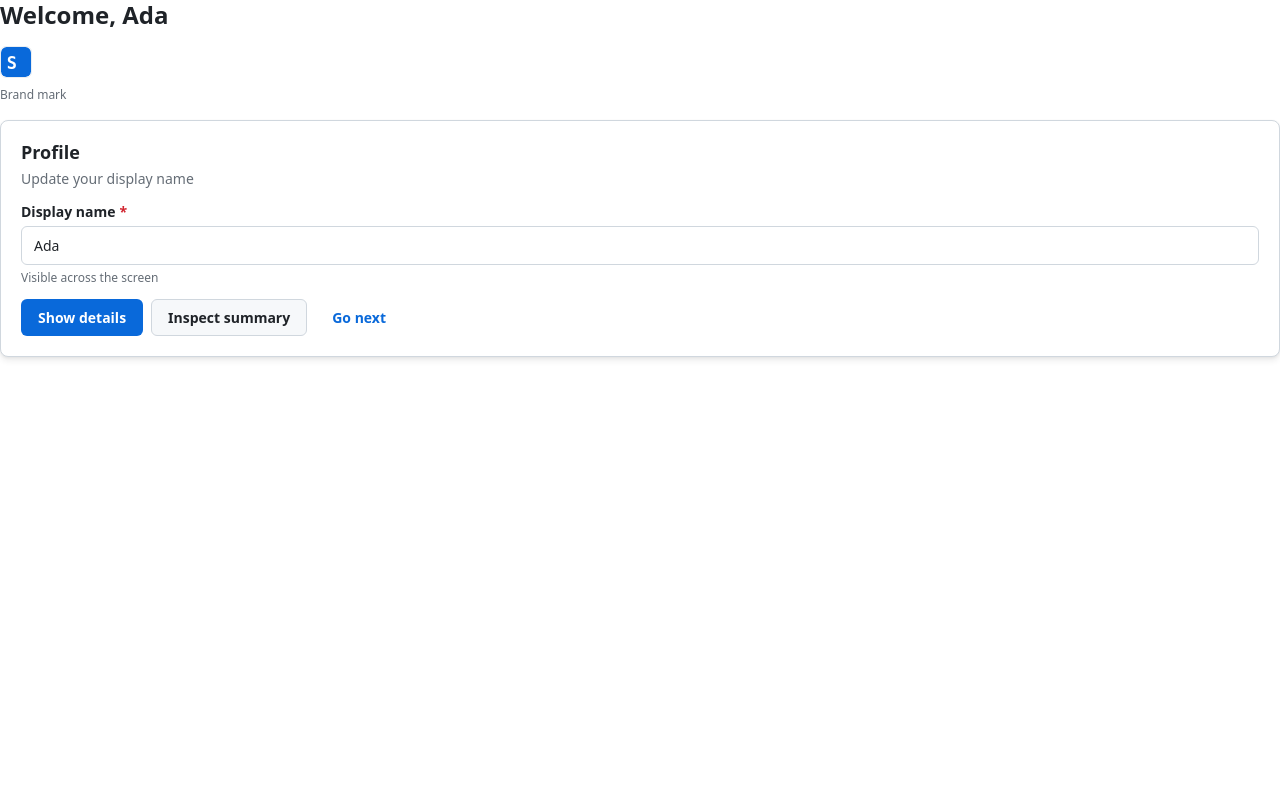
Scenario: SDUI core components and accessibility › renders all 8 node types, handles bindings/actions, and passes jest-axe
This screenshot has width=1280, height=800.
Expected: the picture named "SDUI Lab icon" is shown, [0,46,32,78]
Expected: the text "Brand mark" is shown, [0,86,66,103]
Input updates state live
Replace the text in the field labelled "Display name*" with "Grace" at (640, 245), box [21,226,1259,264]
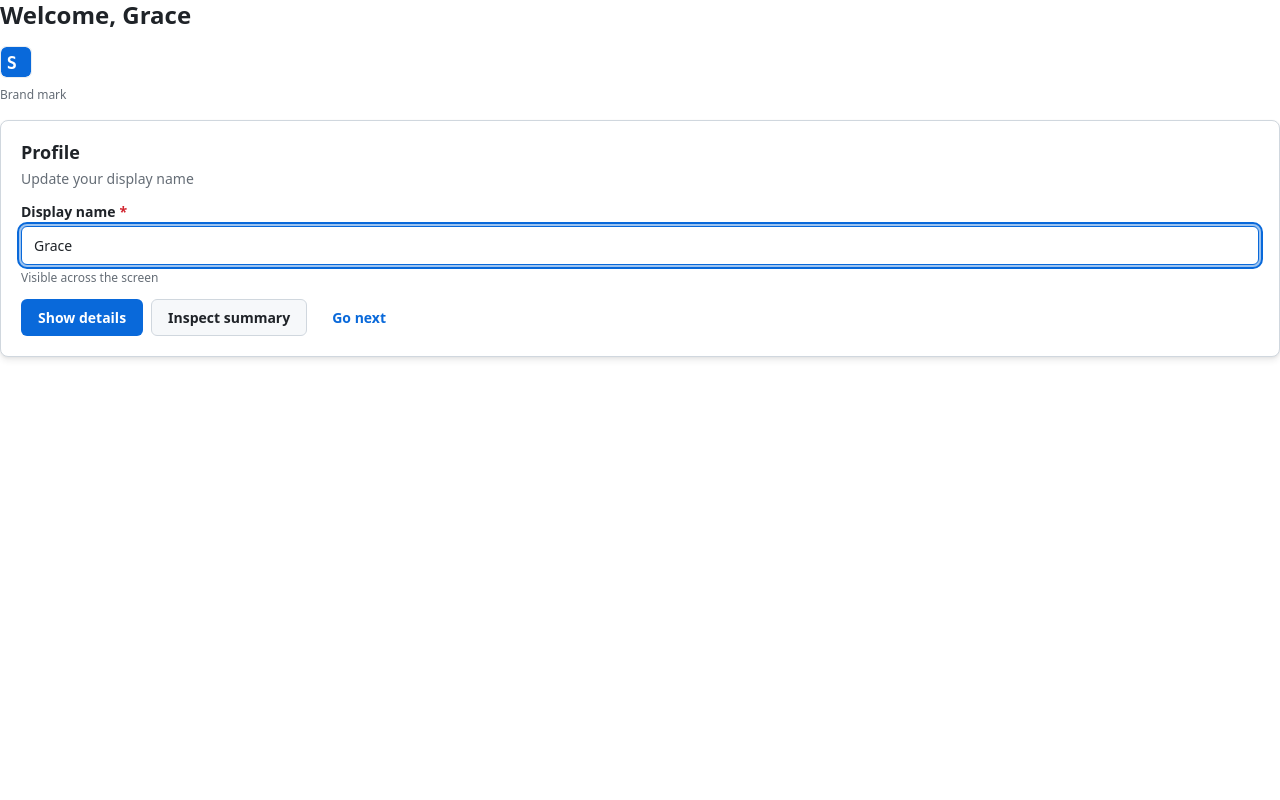
Toggle conditional via setState button
Click the button "Show details" at (82, 317), box [21,298,143,336]
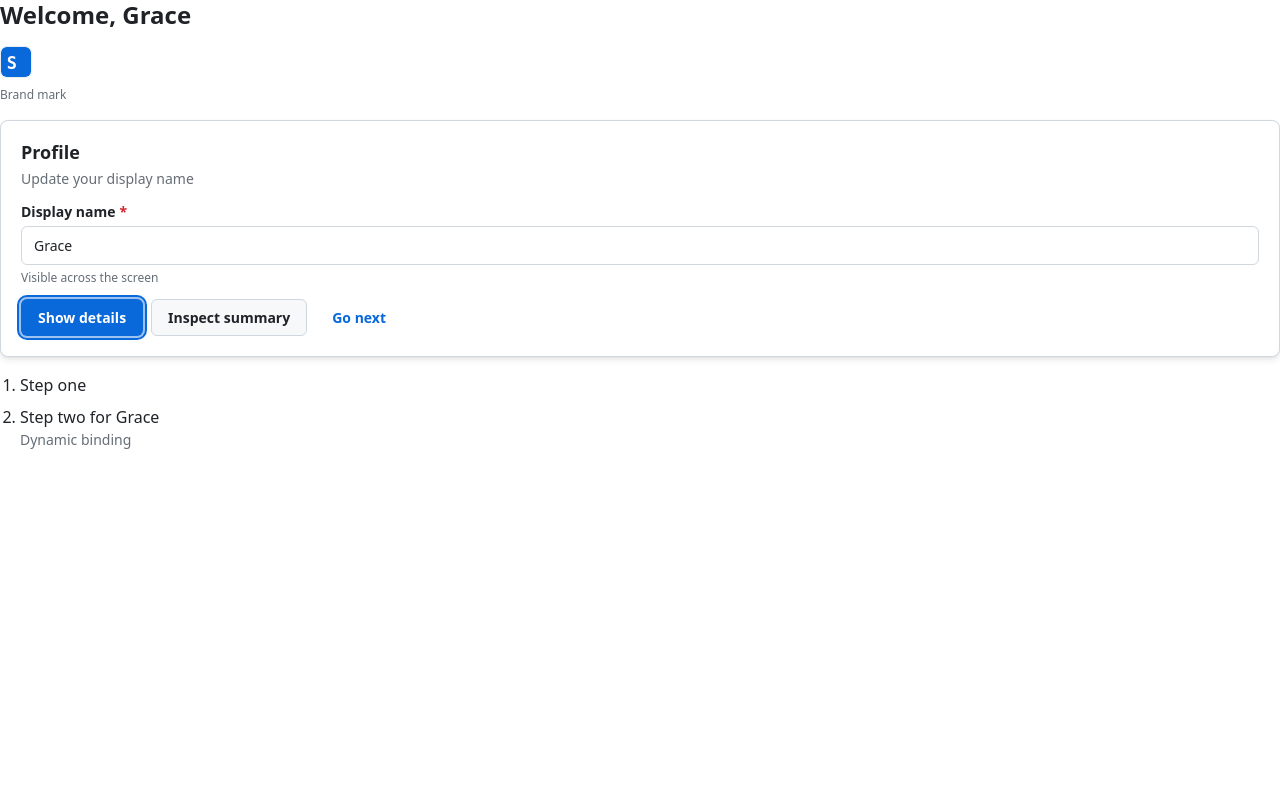
Expected: the text "Step one" is shown, [20,374,86,396]
Expected: the text "Step two for Grace" is shown, [20,406,159,428]
Navigate button fires callback
Click the button "Go next" at (359, 317), box [315,298,403,336]
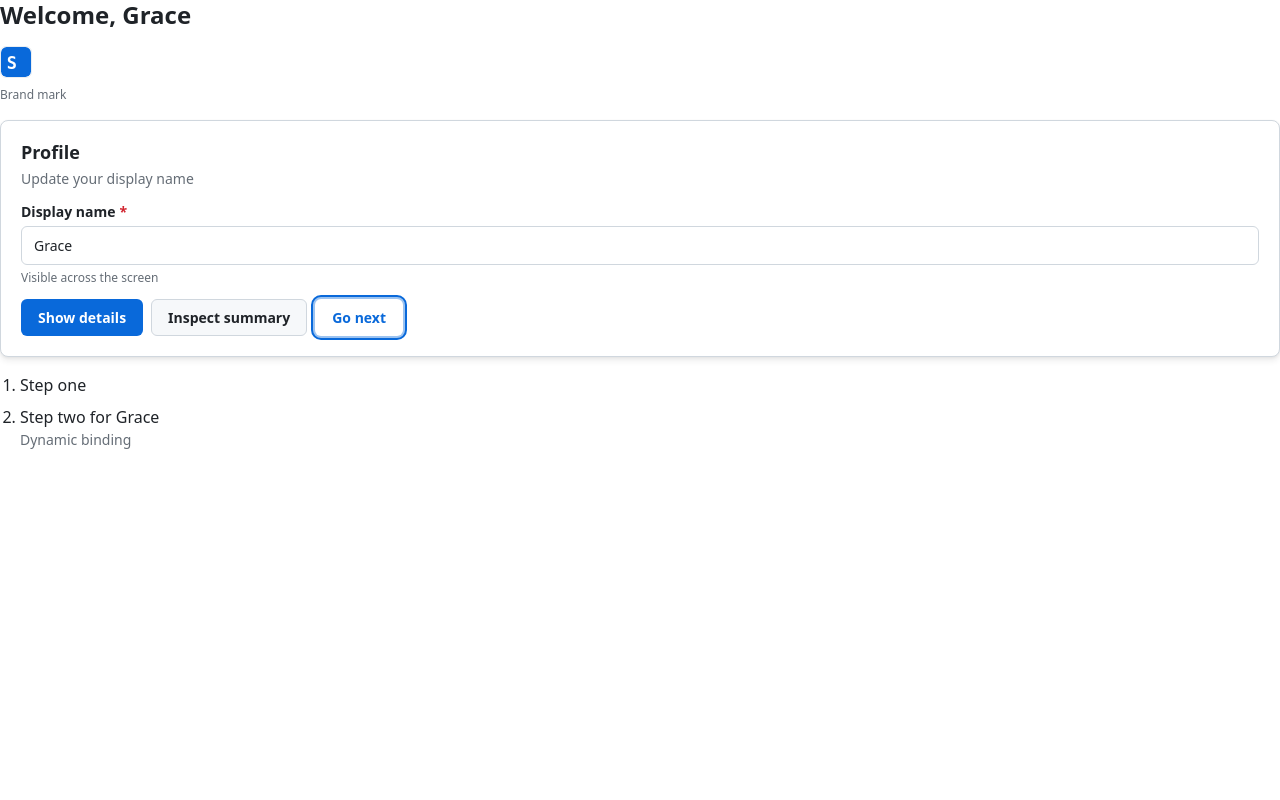
Open built-in accessible dialog and check axe again
Click the button "Inspect summary" at (229, 317), box [151,298,307,336]
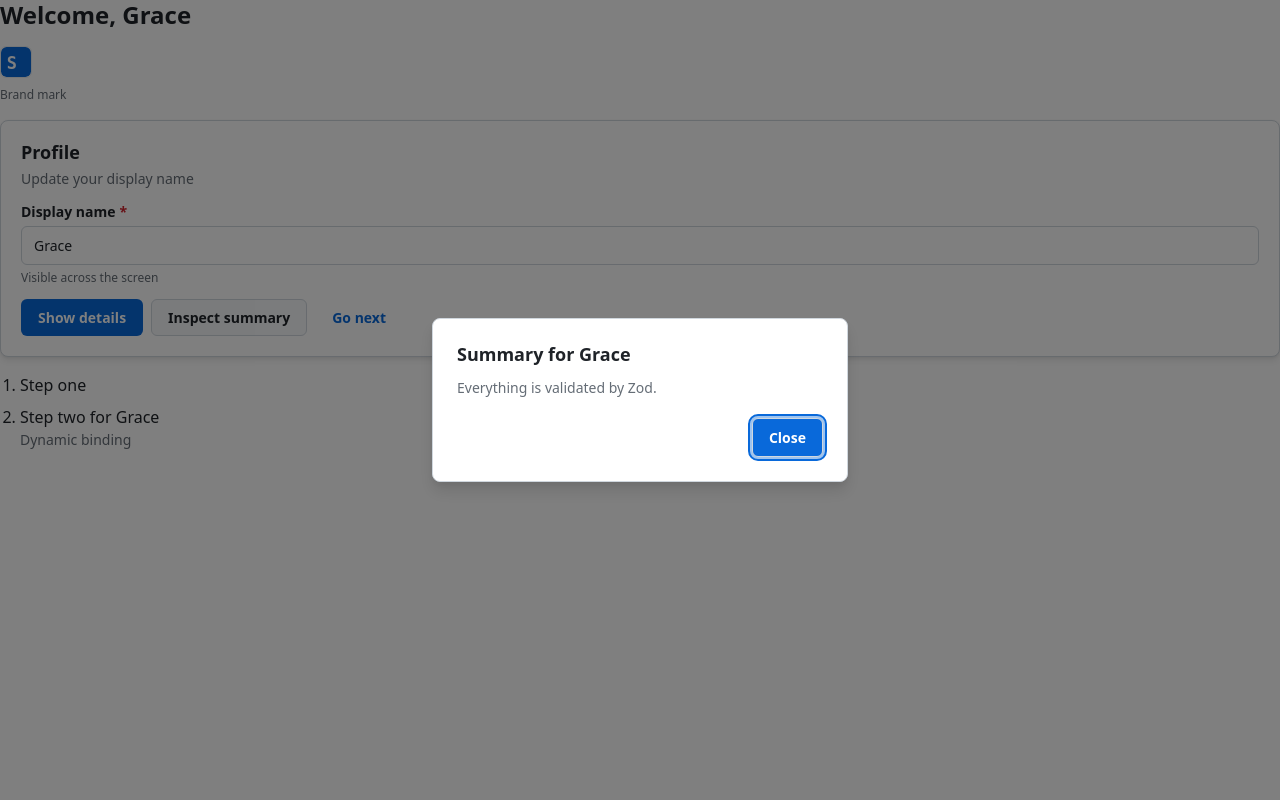
Expected: the dialog shows "Summary for Grace", [457,342,631,366]
Close dialog
Click the button "Close" at (787, 438), box [752,418,823,457]
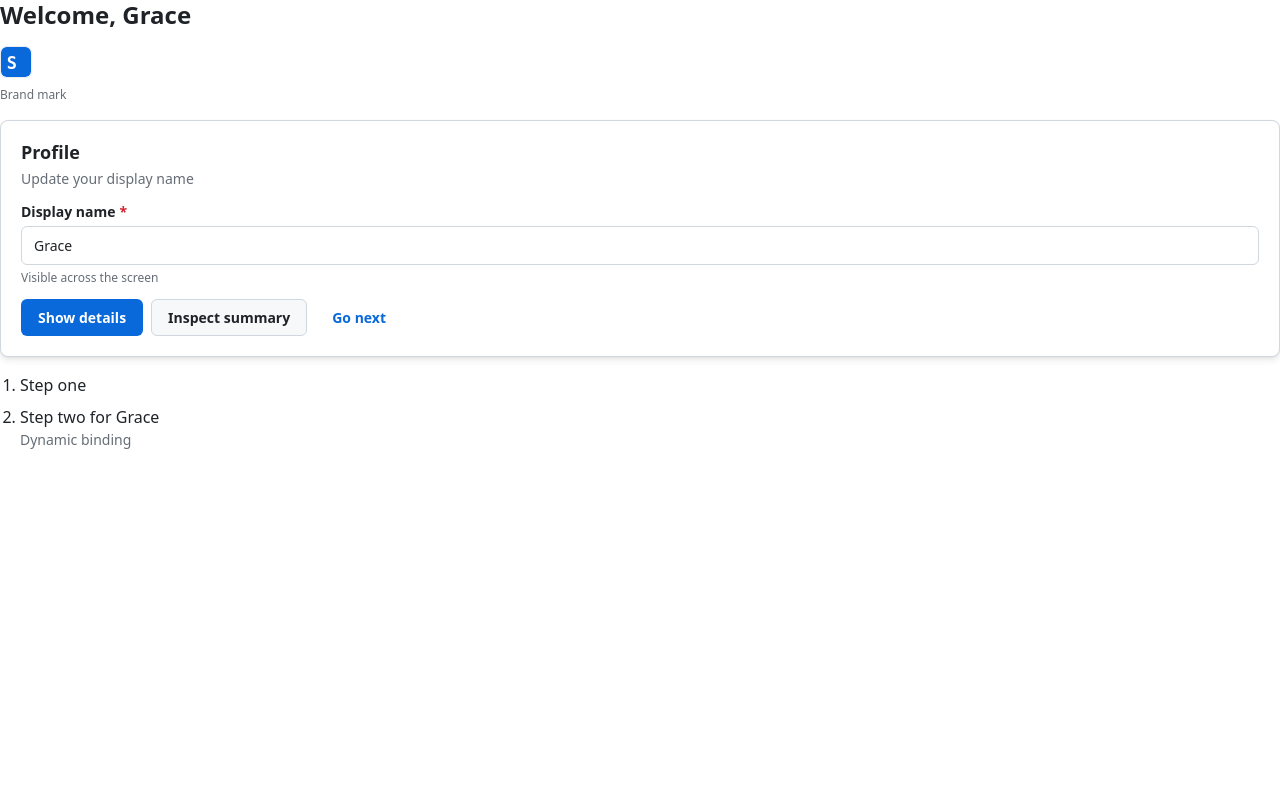
Expected: the dialog is gone
